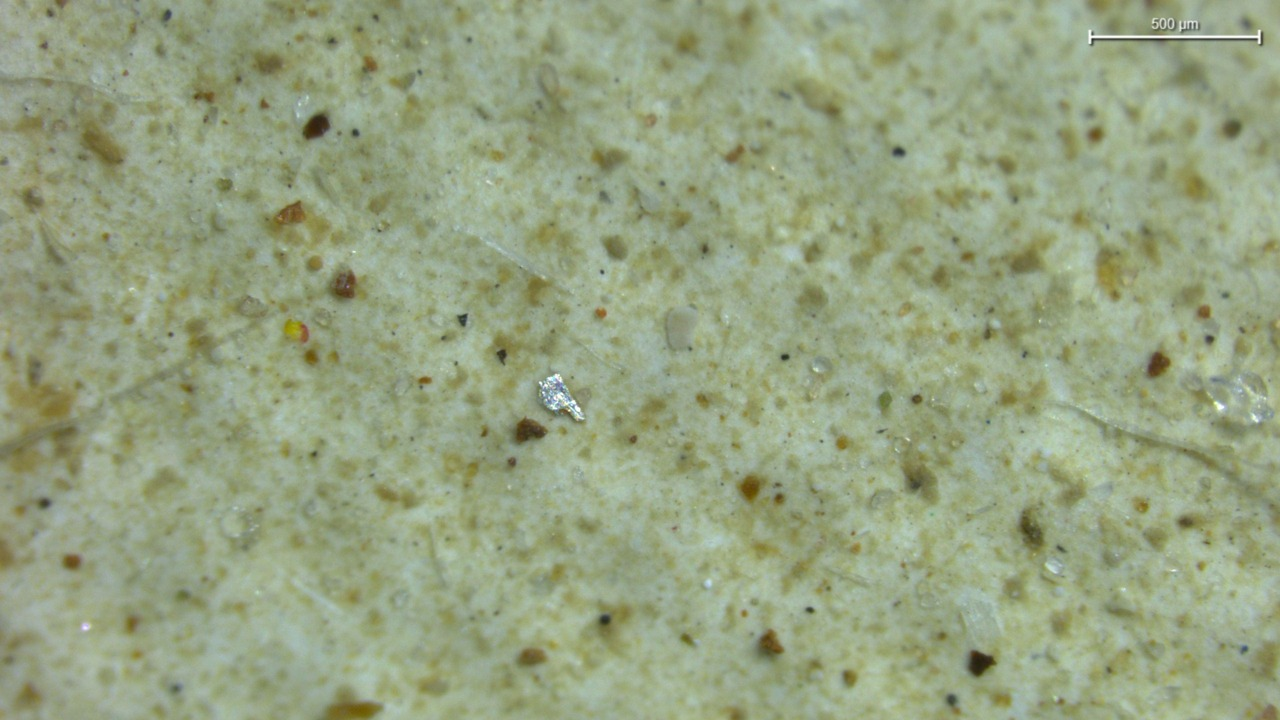microplastic_fragment: (538, 374, 585, 422), (666, 306, 699, 351)
